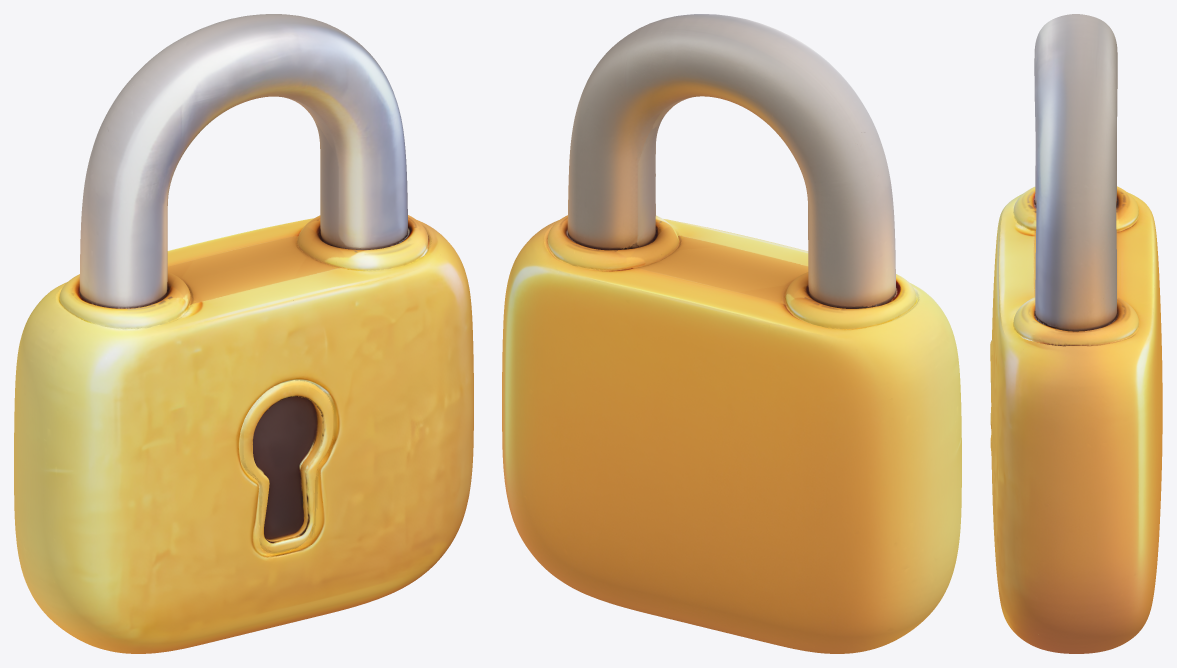
File: base_basic_shaded.glb
3 views of the same model, side by side, from view 1: azimuth 30°, elevation 25°; view 2: azimuth 150°, elevation 25°; view 3: azimuth 270°, elevation 25° (orthographic). The views are drawn at different scales.
Parts seen in each view (by area): view 1: model; view 2: model; view 3: model.
Boxes of the visible parts, <box> form: model: <box>14,14,473,653</box>; model: <box>502,14,961,653</box>; model: <box>990,14,1162,653</box>.
Bounding box in the file's own units: 1.42 × 1.9 × 0.5258.
Materials: 1 (1 with a texture image).
